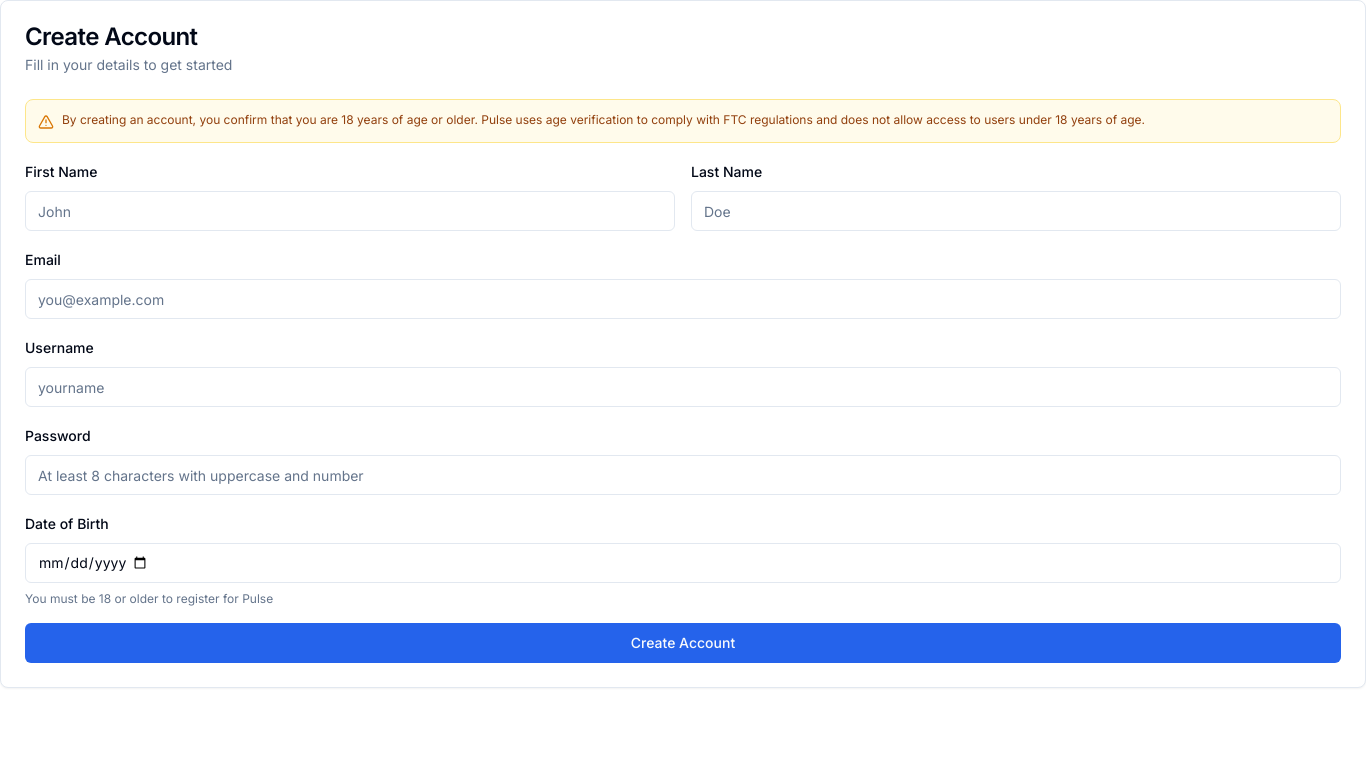
RegistrationState transitions › REG-02: Username taken → username_taken state
The width and height of the screenshot is (1366, 768).
Type "takenuser" into the field labelled "Username". click: (683, 387)
box: [25,367,1341,407]
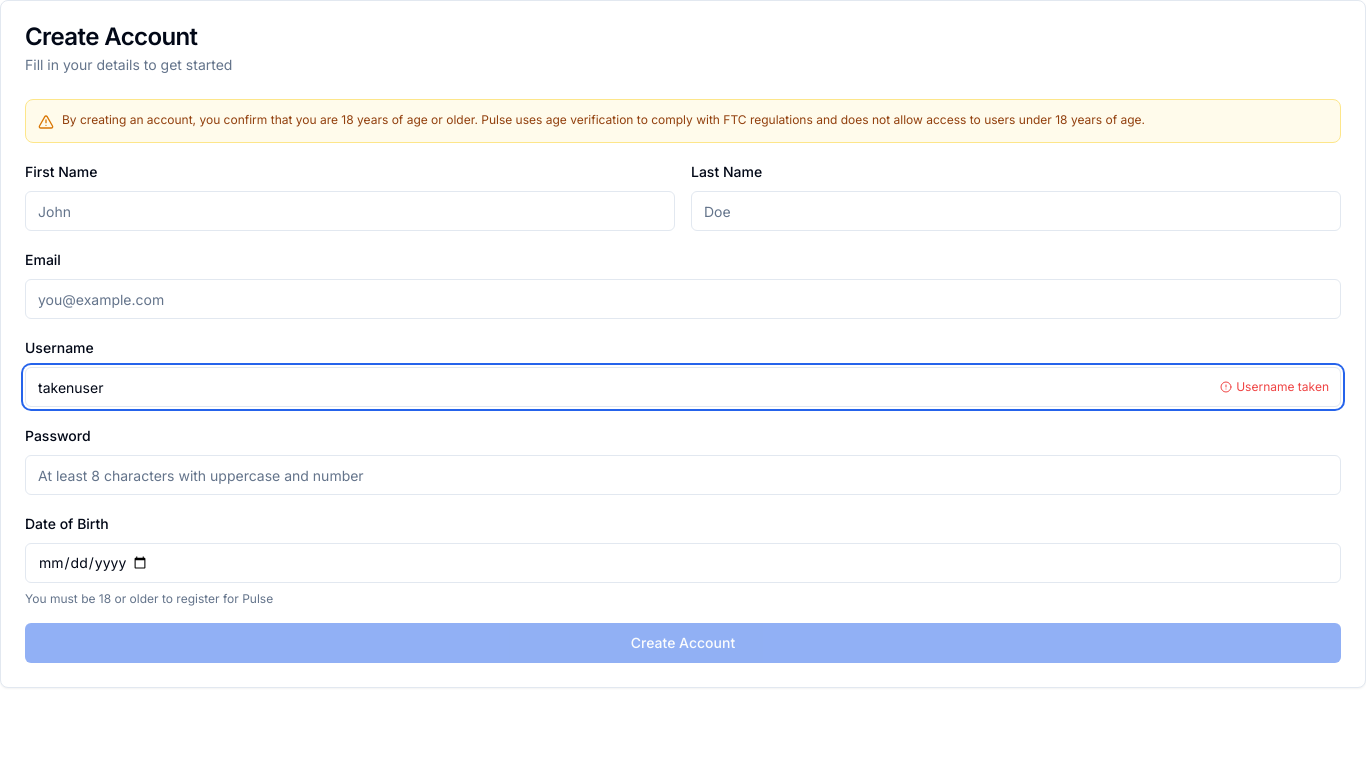
Result: the text "Username taken" is shown at [1220,379,1329,395]
